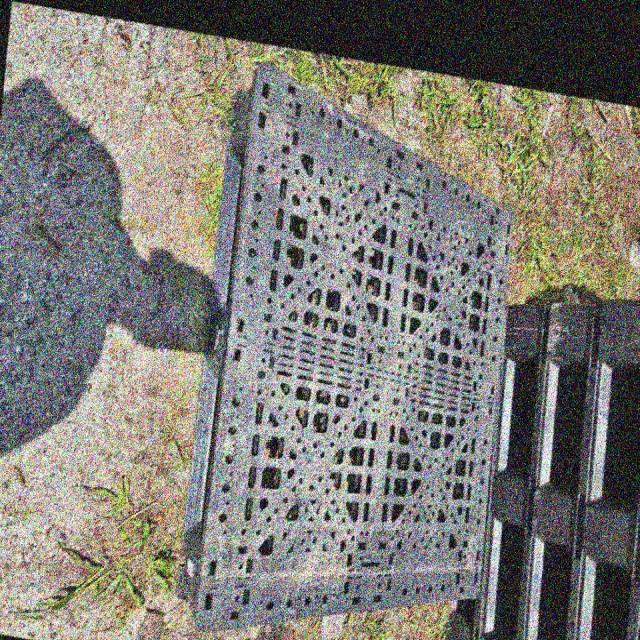non-igps: (171, 58, 520, 640), (450, 290, 552, 640), (512, 279, 602, 640), (567, 287, 639, 640)
